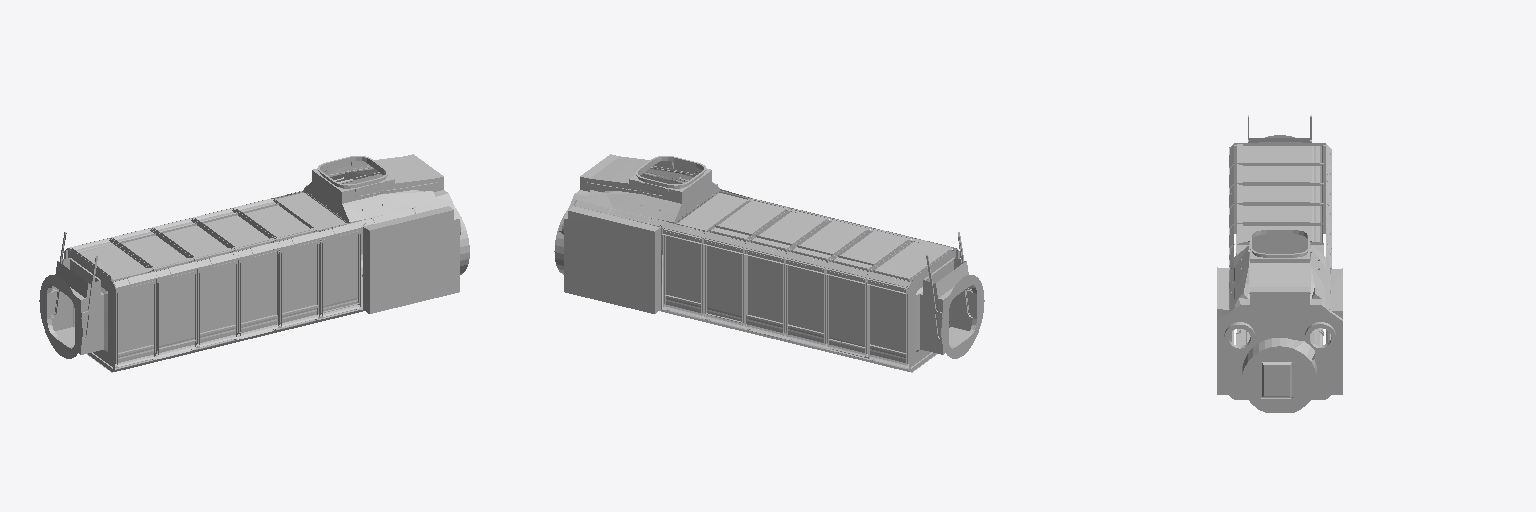
File: jpm.obj
3 renders of one model, left to right at view 1: azimuth 30°, elevation 25°; view 2: azimuth 150°, elevation 25°; view 3: azimuth 270°, elevation 25°, orthographic.
Visible parts, largest first — view 1: JPM_CollapsedForUnity_Starboard; view 2: JPM_CollapsedForUnity_Starboard; view 3: JPM_CollapsedForUnity_Starboard.
Part boxes in pixels (x1,y1,x2,y2): JPM_CollapsedForUnity_Starboard: (39,154,469,372); JPM_CollapsedForUnity_Starboard: (554,154,984,372); JPM_CollapsedForUnity_Starboard: (1217,115,1342,412).
Size of the model in its own units: 10.17 by 3.08 by 2.86.